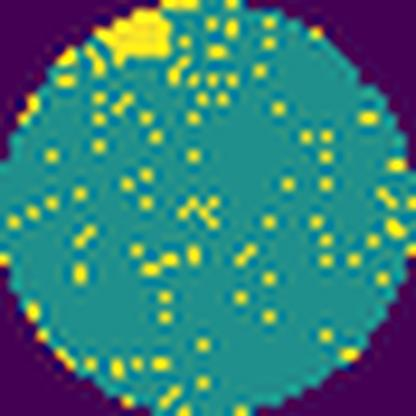Edge-Loc: (102, 0, 179, 55)
